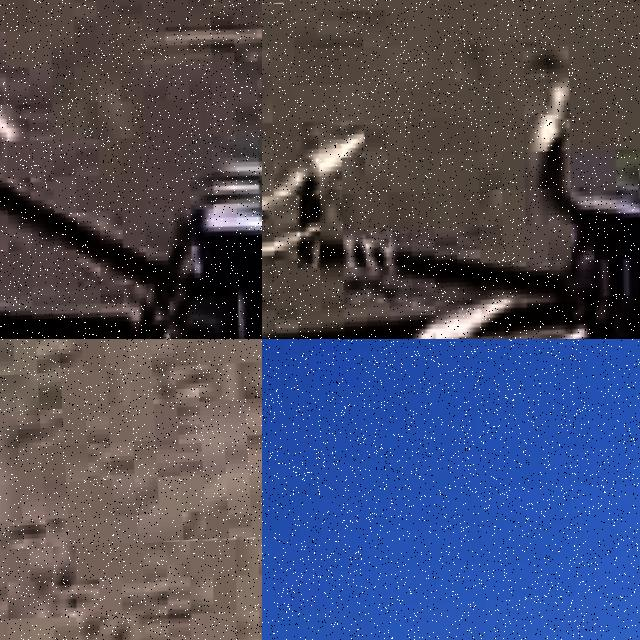drone: (262, 0, 640, 339), (0, 0, 262, 339), (0, 527, 262, 640)
